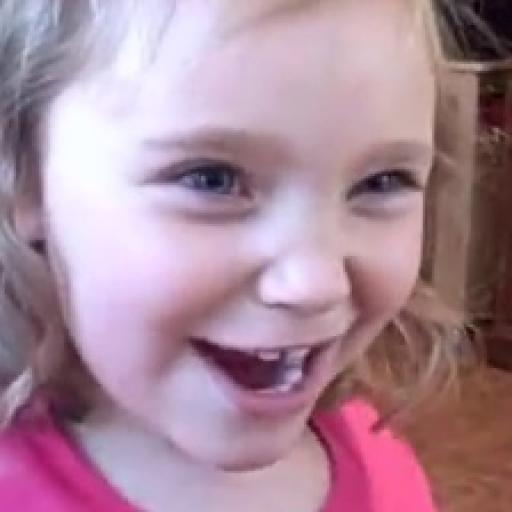Autism: (5, 0, 443, 485)
